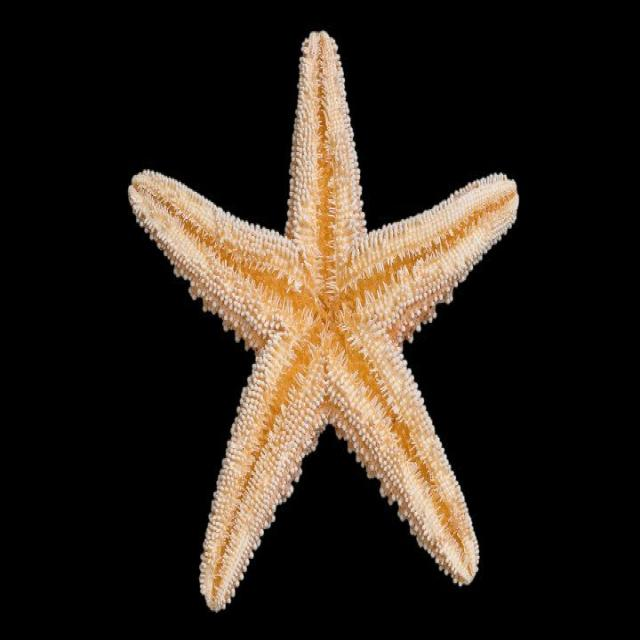starfish: (129, 31, 518, 610)
